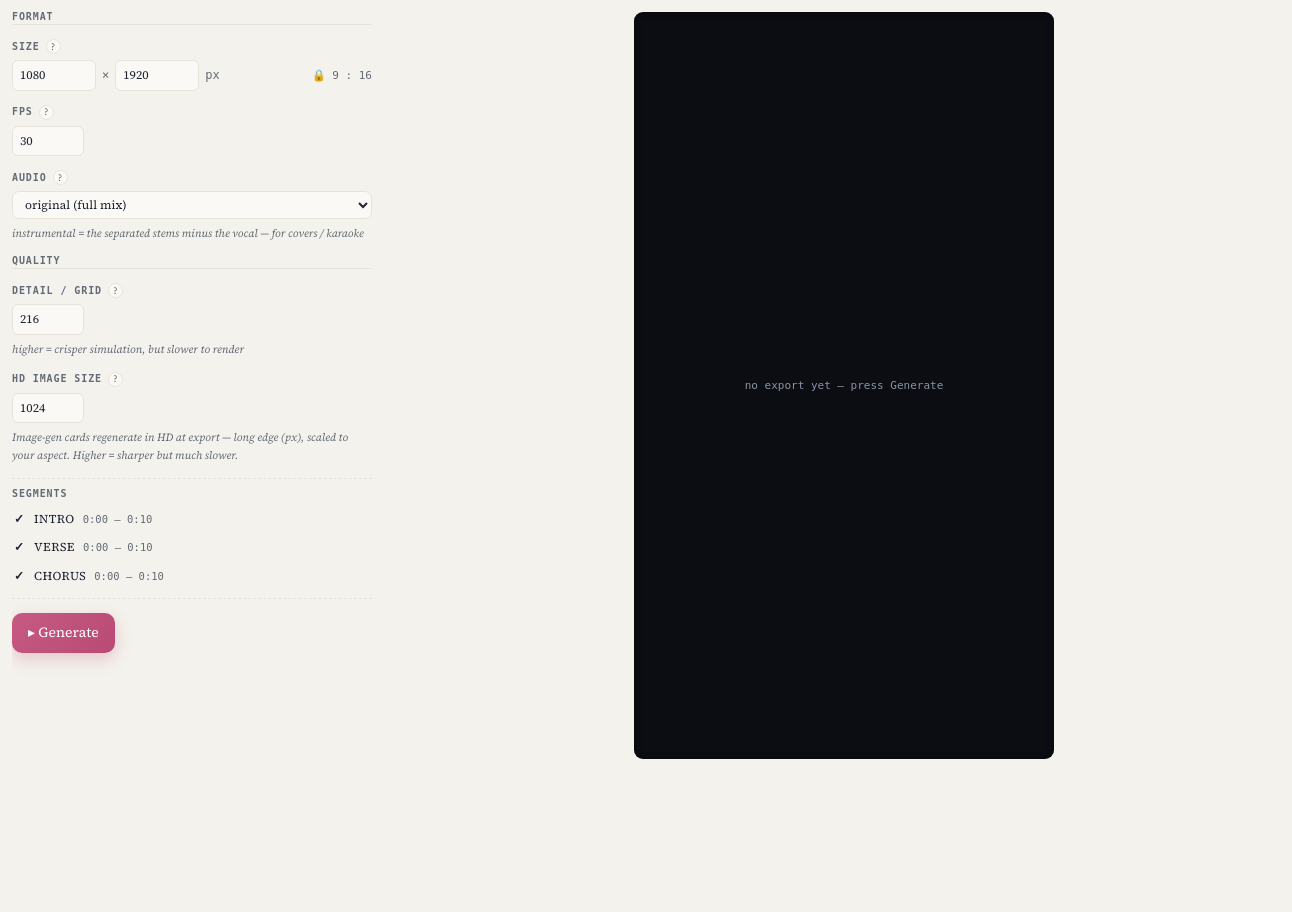
Test: ExportConsole progress › shows the PHASE — the field the old screen dropped
Click the button "▸ Generate" at (63,633), box [12,613,115,653]
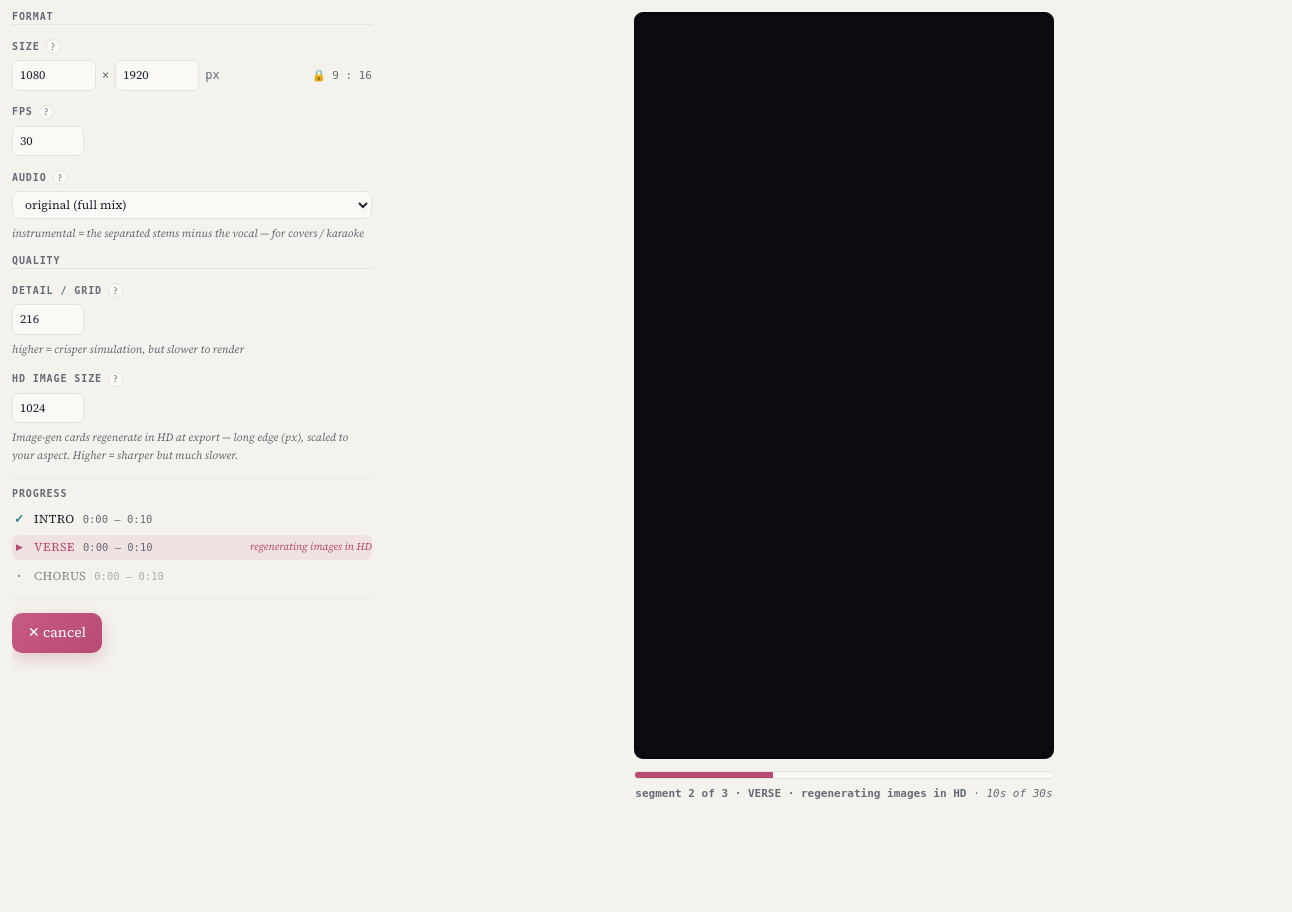
Now the element with class "export-progress-label" shows "regenerating images in HD", box [635,787,966,800]
Now the element with class "st-running" shows "regenerating images in HD", box [250,539,372,554]
